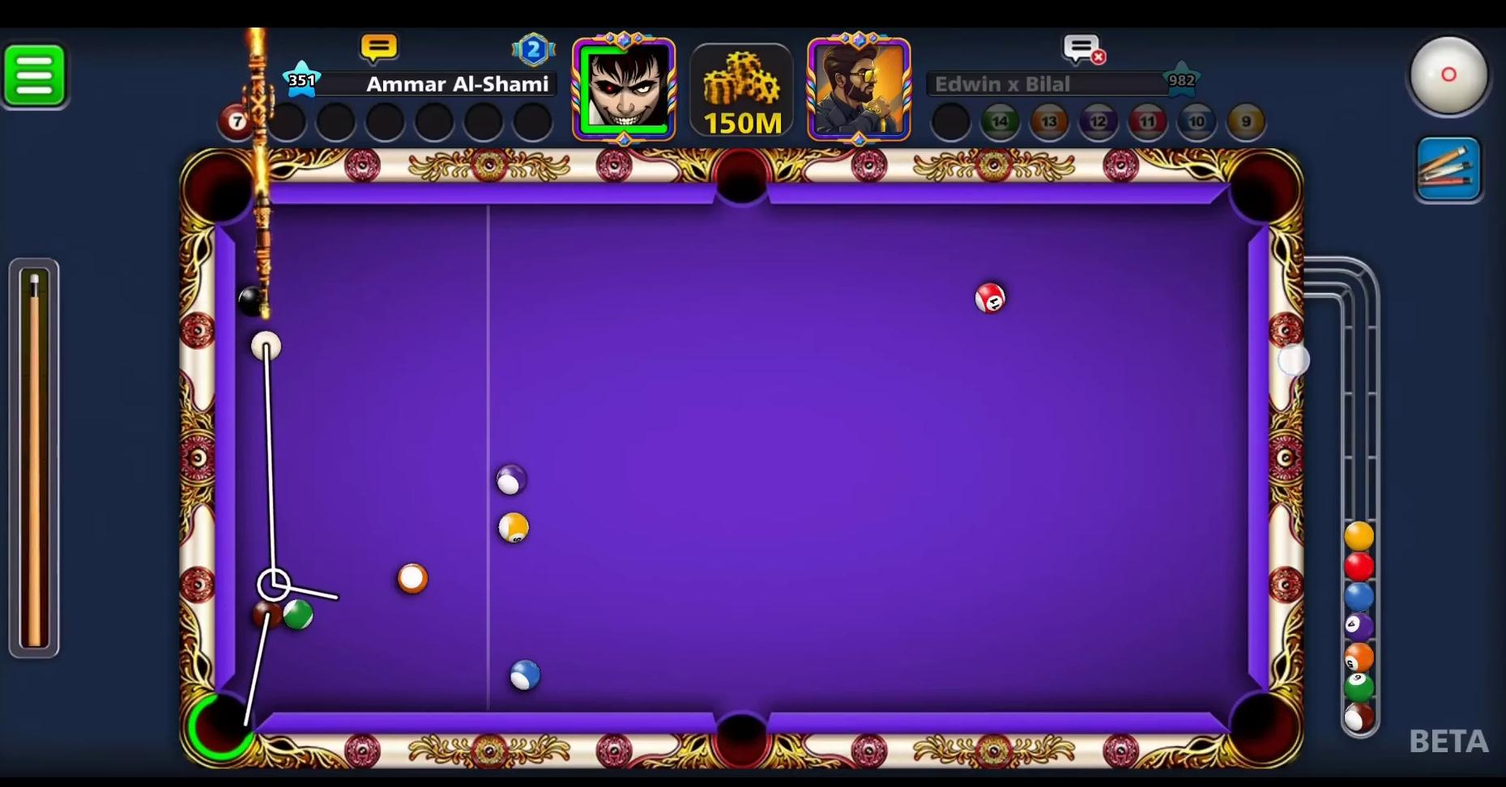Ball: (497, 653, 547, 698), (229, 275, 272, 322), (390, 561, 436, 602), (488, 459, 534, 499), (245, 593, 287, 636), (971, 277, 1009, 320), (276, 596, 319, 633), (494, 509, 535, 547)
Force: (0, 257, 65, 659)
Guideline: (235, 340, 343, 732)
Hole: (1210, 675, 1309, 776), (171, 677, 270, 775), (177, 144, 268, 236), (1217, 143, 1306, 234), (696, 689, 791, 774), (701, 143, 783, 221)
Play_Area: (235, 205, 1248, 716)
Spin: (1402, 28, 1504, 130)
White: (247, 327, 286, 364)
